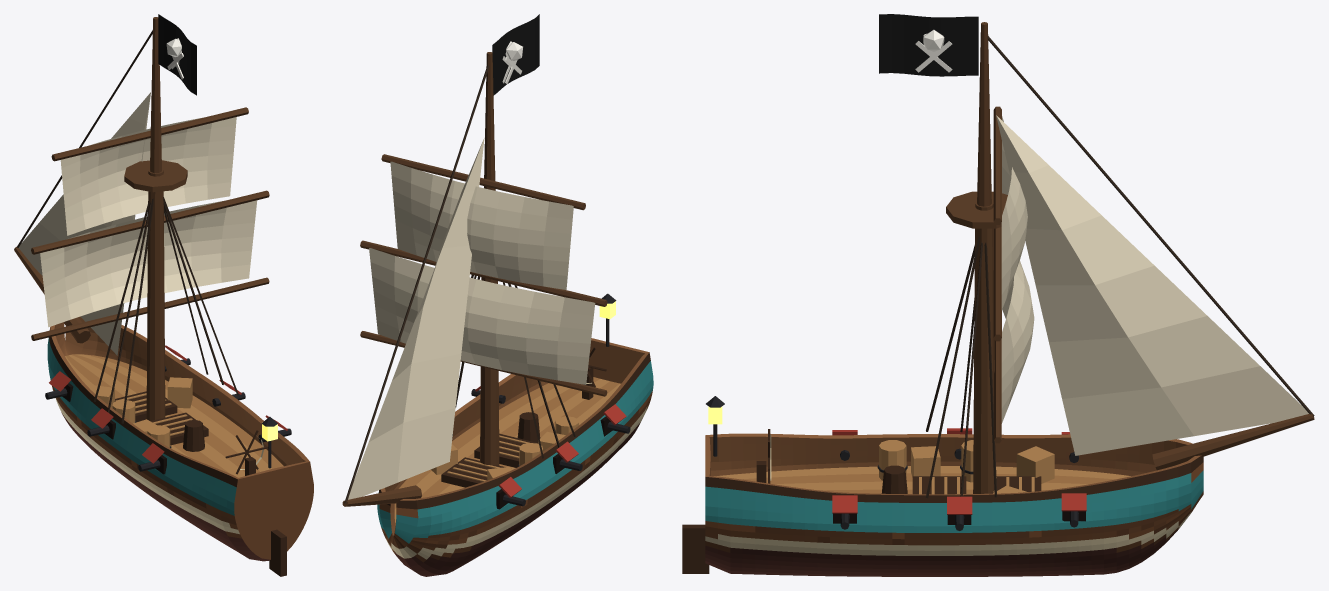
Rendered from sloop.glb.
The picture shows the model from 3 angles, left to right: view 1: azimuth 30°, elevation 25°; view 2: azimuth 150°, elevation 25°; view 3: azimuth 270°, elevation 25°; orthographic projection. The views are drawn at different scales.
Parts seen in each view (by area): view 1: Hull, Sail_0_0, Sail_0_1, Sail_jib, Flag; view 2: Hull, Sail_jib, Sail_0_0, Sail_0_1, Flag; view 3: Hull, Sail_jib, Flag, Sail_0_0, Sail_0_1.
Part boxes in pixels (box(x1,y1,x2,y2)): Hull: box(14, 17, 313, 576); Sail_0_0: box(40, 200, 257, 327); Sail_0_1: box(60, 117, 236, 235); Sail_jib: box(18, 92, 150, 355); Flag: box(158, 14, 196, 95); Hull: box(342, 52, 653, 576); Sail_jib: box(348, 137, 484, 499); Sail_0_0: box(369, 248, 595, 384); Sail_0_1: box(390, 161, 573, 289); Flag: box(492, 14, 539, 95); Hull: box(682, 22, 1314, 576); Sail_jib: box(996, 115, 1308, 455); Flag: box(879, 14, 978, 76); Sail_0_0: box(1001, 260, 1034, 423); Sail_0_1: box(1001, 116, 1027, 309).
Bounding box in the file's own units: 8.37 × 16 × 16.49.
